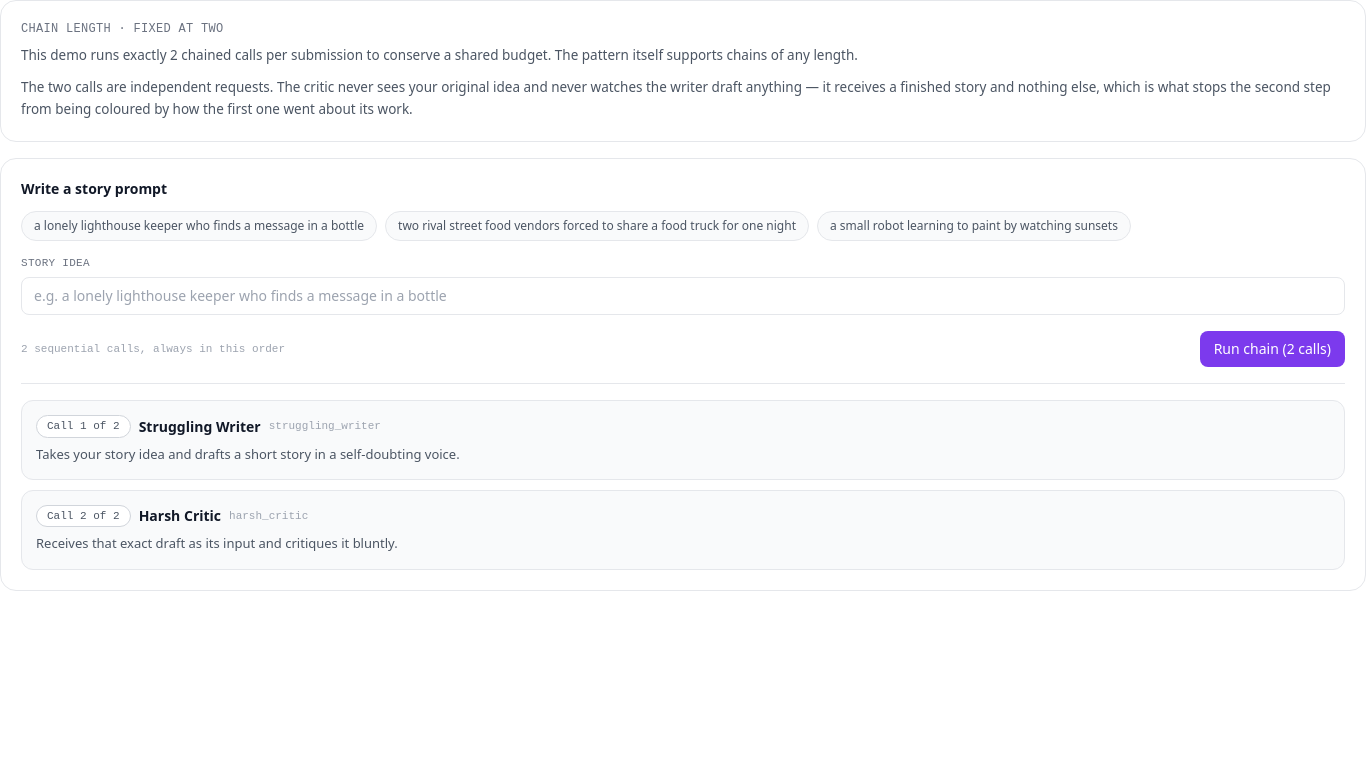
Test case: a successful chain › renders both output blocks, each labeled by the role that produced it
expect the text "Takes your story idea and drafts a short story in a self-doubting voice." is shown: met, box x1=36 y1=445 x2=460 y2=463
Step 1. Type "a lighthouse keeper" into the field labelled "Story idea" → (683, 296), box x1=21 y1=277 x2=1345 y2=315
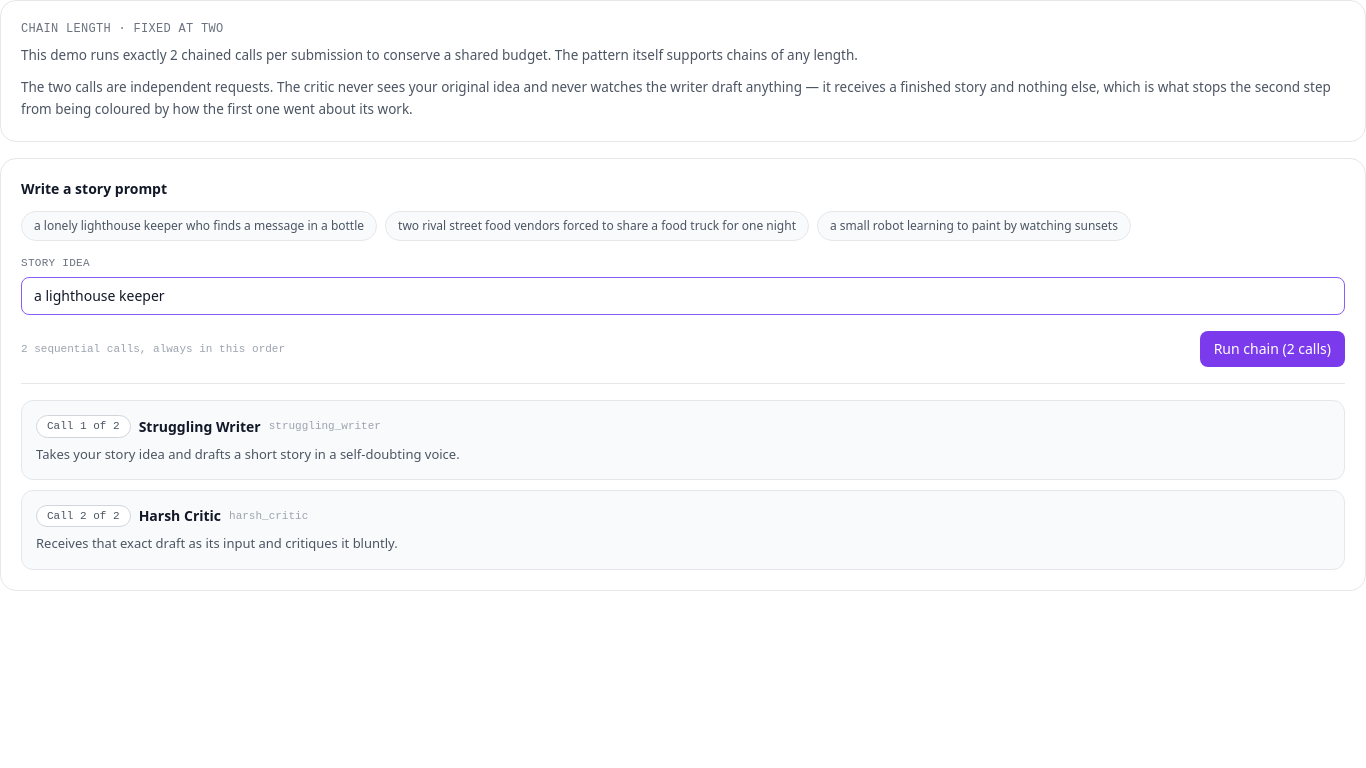
Step 2. Click the button "Run chain (2 calls)" → (1272, 349), box x1=1200 y1=331 x2=1345 y2=367
(page scrolled)
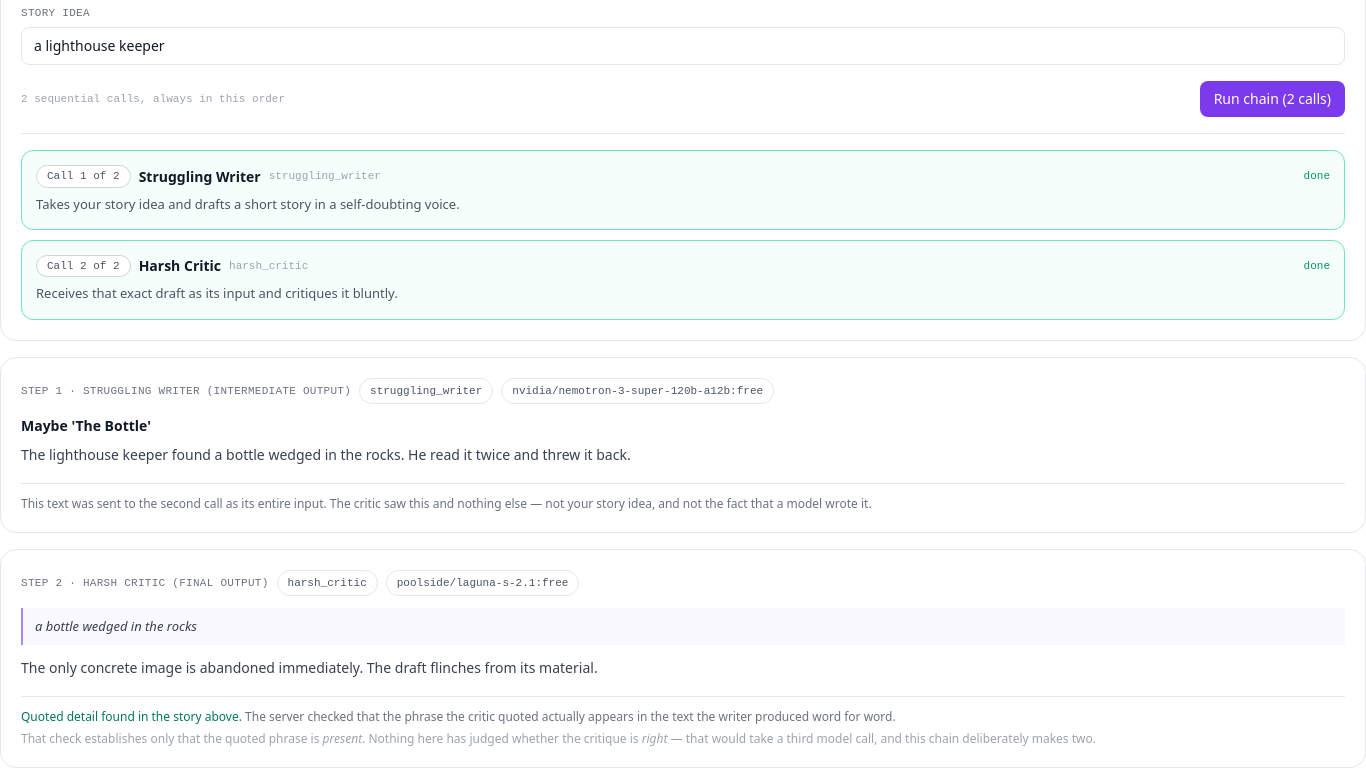
expect the heading "Step 1 · Struggling Writer (intermediate output)" is shown: met, box x1=21 y1=383 x2=351 y2=399
expect the text "The lighthouse keeper found a bottle wedged in the rocks. He read it twice and threw it back." is shown: met, box x1=21 y1=445 x2=631 y2=464
expect the heading "Step 2 · Harsh Critic (final output)" is shown: met, box x1=21 y1=575 x2=268 y2=591
